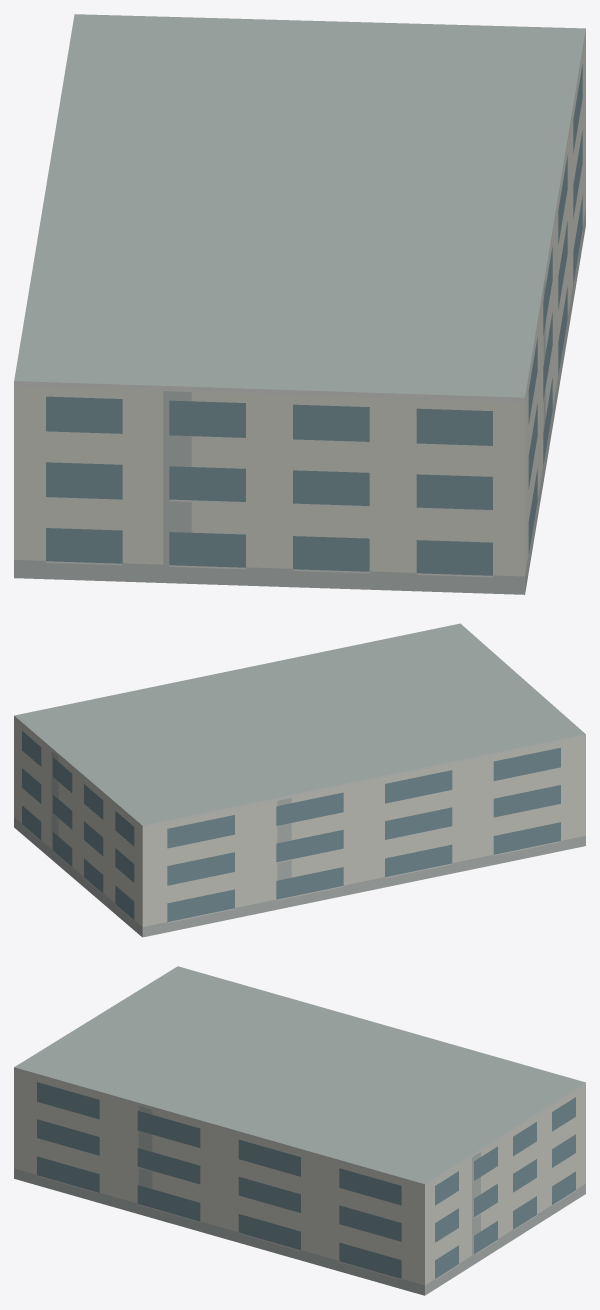
File: survey-upis-32847090.glb
The picture shows the model from 3 angles, top to bottom: view 1: azimuth 30°, elevation 25°; view 2: azimuth 150°, elevation 25°; view 3: azimuth 270°, elevation 25°; orthographic projection. The views are drawn at different scales.
Parts seen in each view (by area): view 1: survey-upis-32847090.tmp; view 2: survey-upis-32847090.tmp; view 3: survey-upis-32847090.tmp.
Part boxes in pixels (box(x1,y1,x2,y2)): survey-upis-32847090.tmp: box(14, 14, 585, 594); survey-upis-32847090.tmp: box(14, 623, 585, 937); survey-upis-32847090.tmp: box(14, 966, 585, 1295).
Size of the model in its own units: 38.39 by 9.15 by 42.54.
